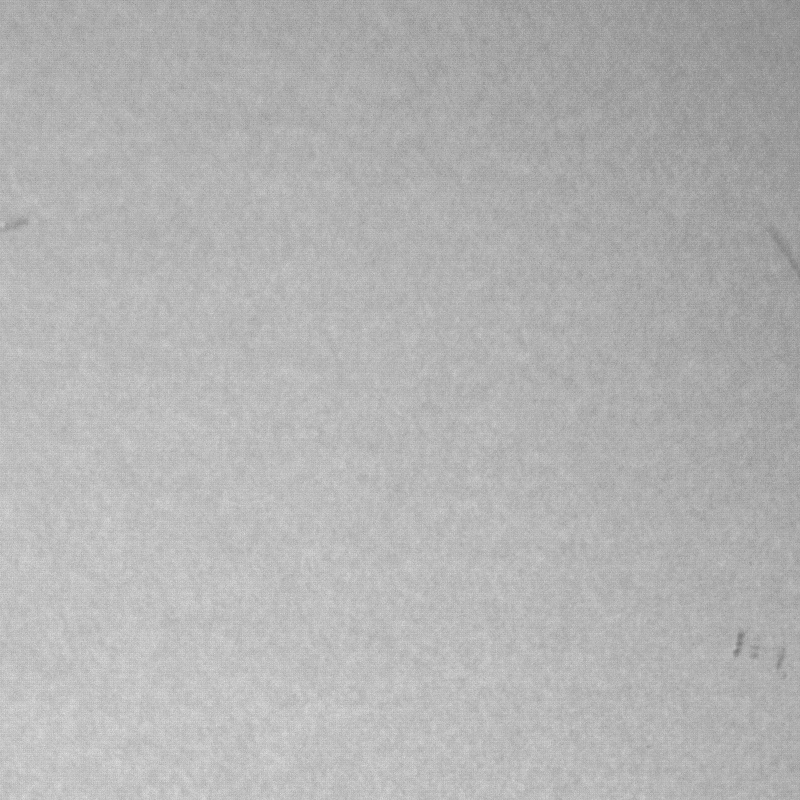defect: (735, 624, 795, 673), (769, 233, 800, 273), (1, 221, 27, 235)
